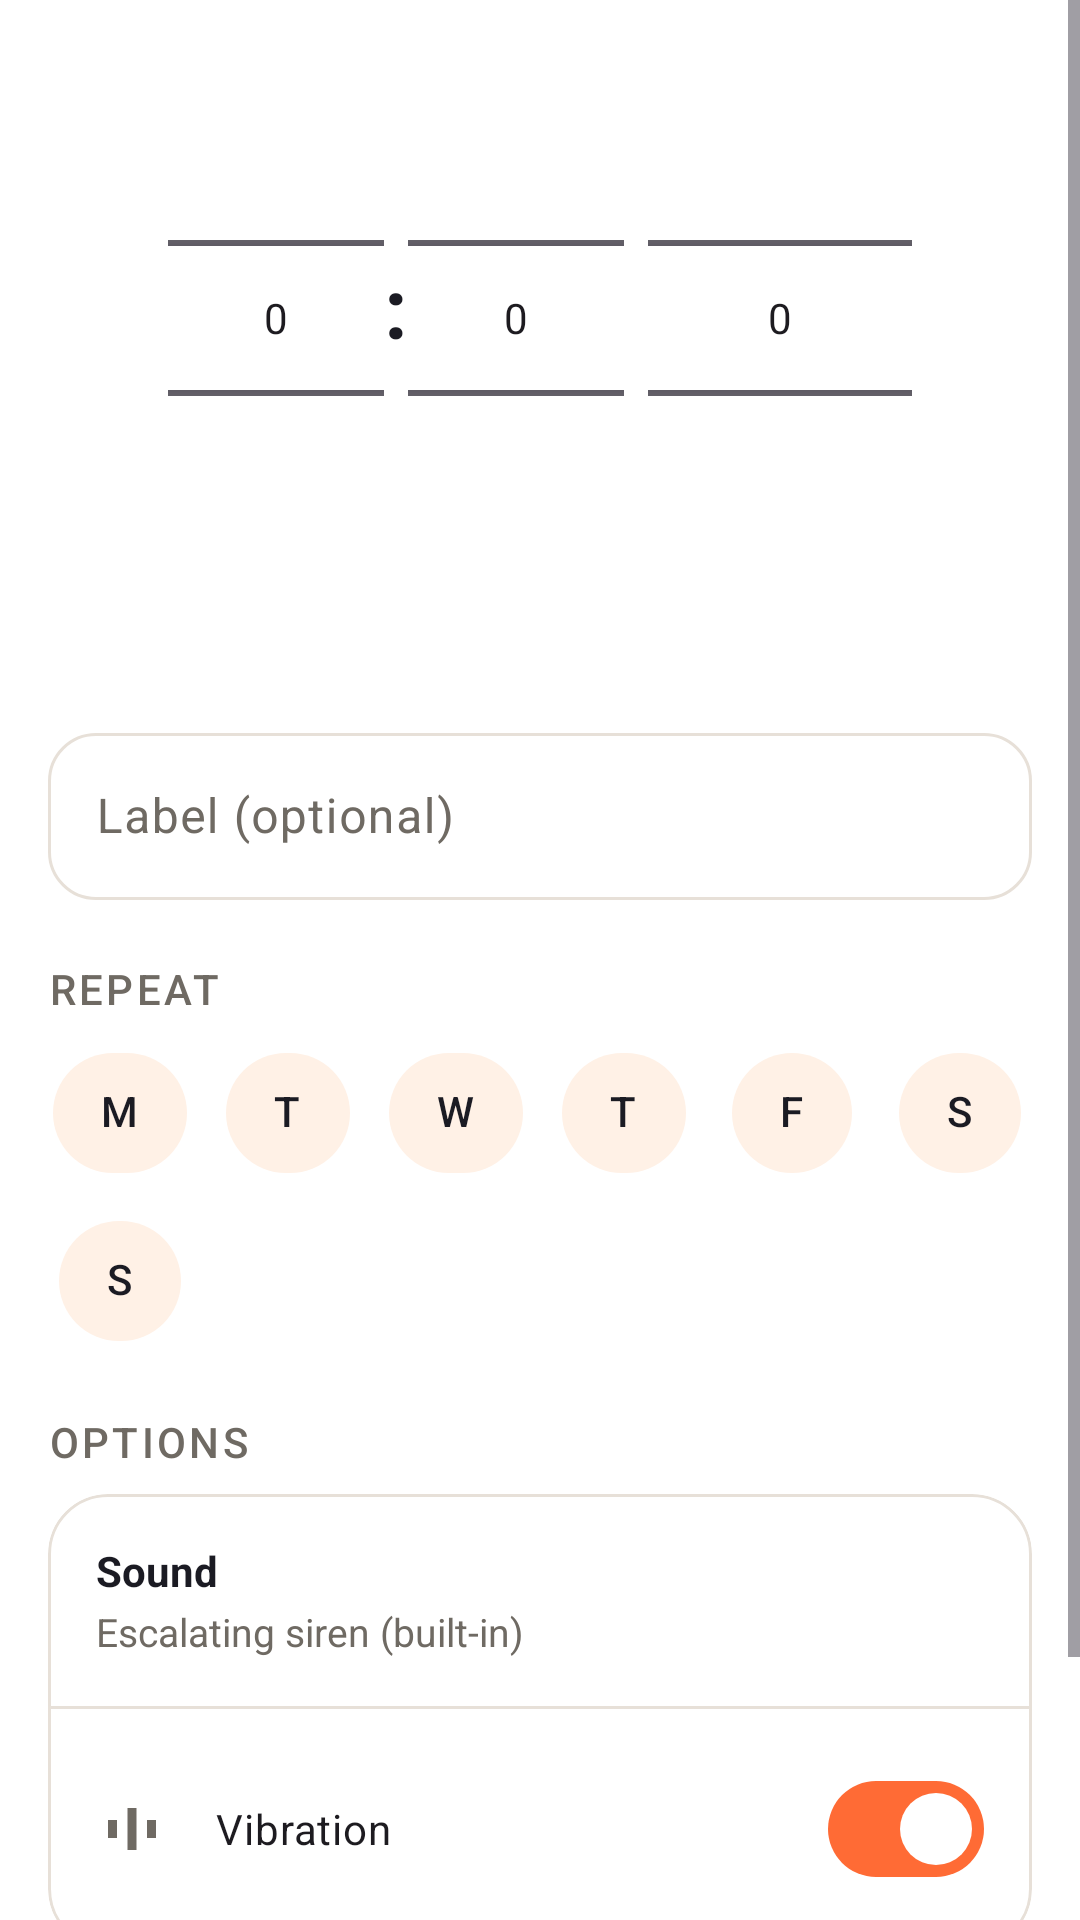

Where to tap for icons on this 1080px×1920px app screen, as (x=x, y=y):
vibrate: (x=132, y=1829)
